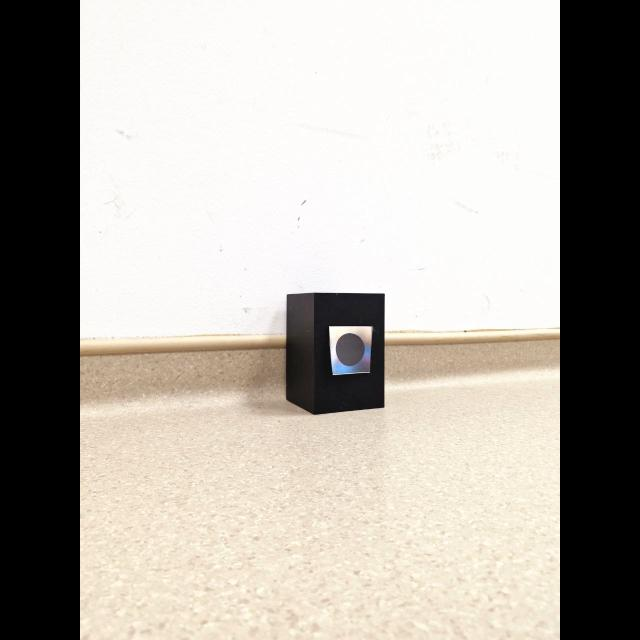CIRCLE: (337, 334, 365, 366)
